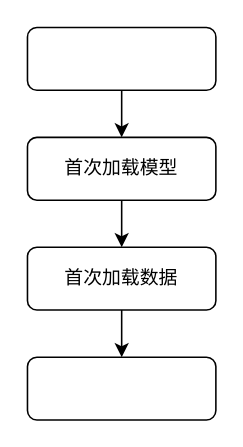
Some shapes in this 243 by 447 pixel diagram are drawn without their labels. Here are the shapes that lost their labels. From the top down, the centre of each, then its label:
the point at 121,58: 服务启动
the point at 121,388: 提供rpc服务
